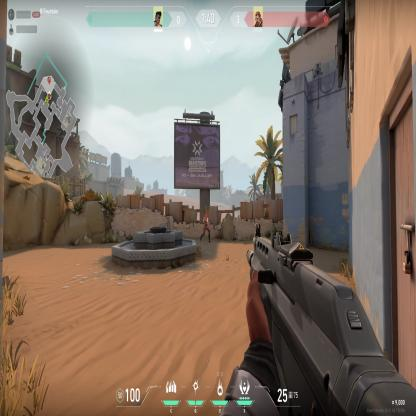enemy: (200, 214, 212, 244)
